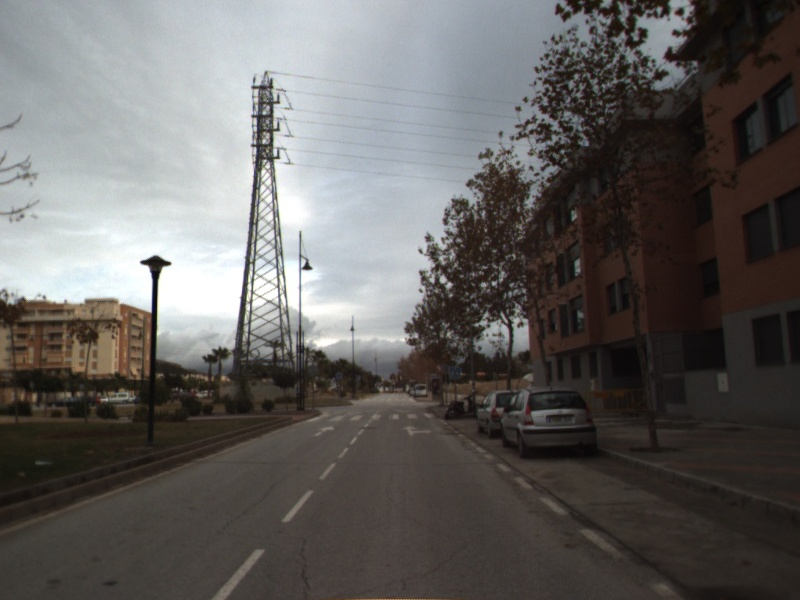STRAIGHT: (312, 424, 337, 438)
STRAIGHT_RIGHT: (400, 423, 434, 437)
